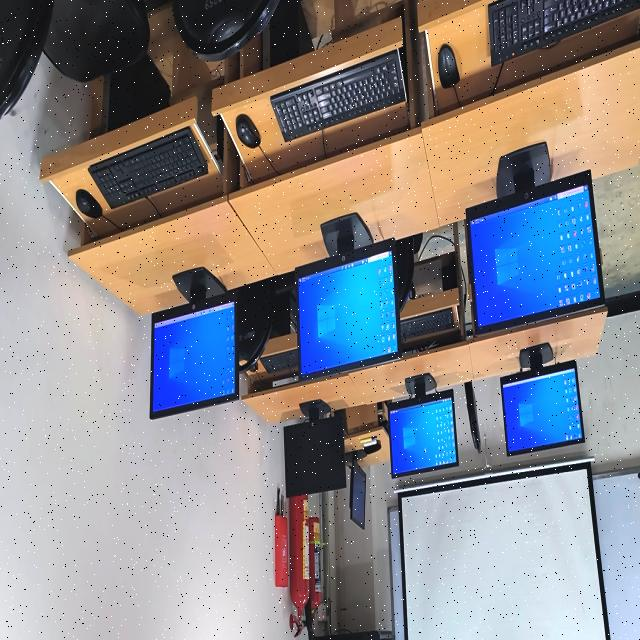Chair: (0, 0, 152, 125), (175, 0, 288, 61), (237, 278, 274, 374), (396, 236, 414, 312), (466, 382, 480, 454), (278, 0, 338, 7)
Cpu: (106, 55, 170, 132), (268, 3, 314, 67)
Fire Extinguisher: (291, 496, 309, 620), (310, 516, 322, 620)
Keyboard: (270, 50, 406, 142), (488, 0, 640, 67), (88, 128, 209, 210), (401, 308, 455, 340), (260, 350, 298, 374)
Monitor: (466, 143, 604, 334), (296, 214, 400, 381), (150, 268, 238, 419), (500, 344, 584, 456), (388, 373, 458, 478), (284, 400, 346, 498), (348, 452, 366, 530)
Mouse: (438, 44, 460, 89), (236, 114, 260, 148), (76, 190, 102, 218), (248, 364, 258, 374)
